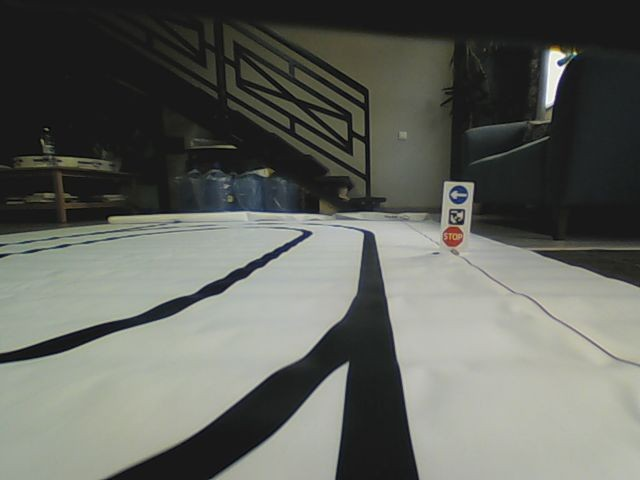Stop: (441, 226, 465, 247)
